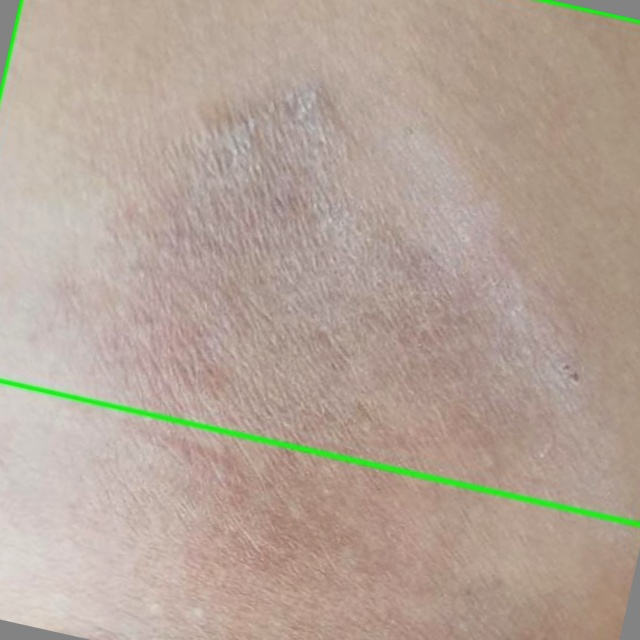Contact Dermatitis: (0, 0, 639, 524)
